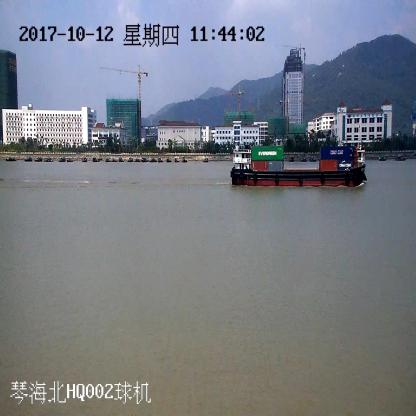Container Ship: (232, 146, 366, 187)
